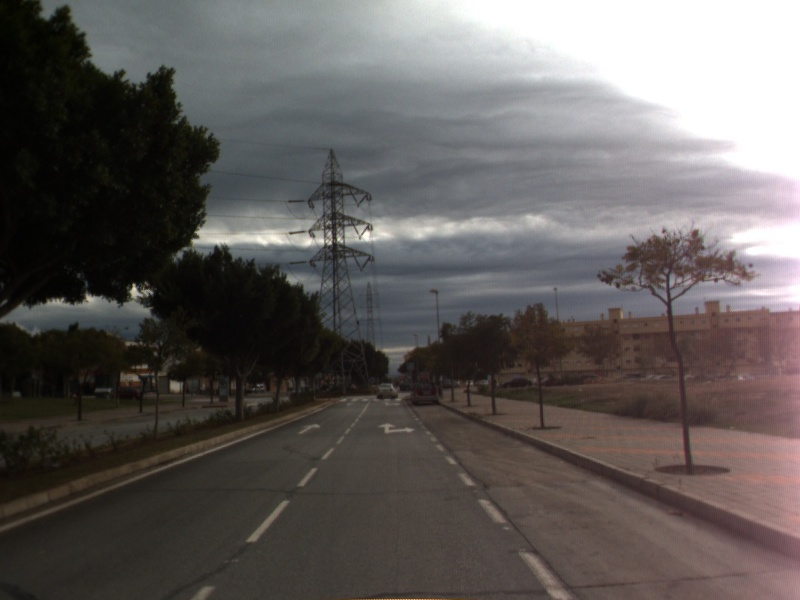STRAIGHT: (295, 421, 323, 436)
STRAIGHT_RIGHT: (375, 421, 417, 436)
